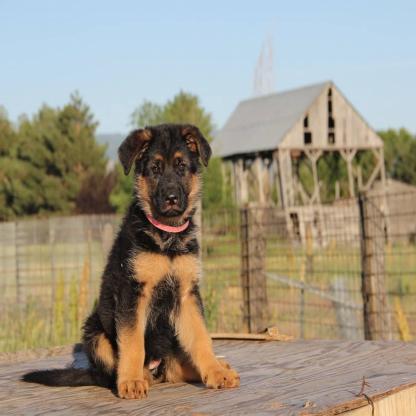dog: (89, 123, 243, 400)
